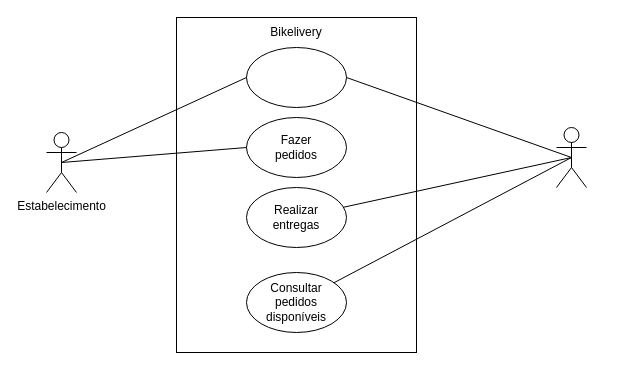
This 618x370 diagram has some shape labels left out. Here are the shapes that lost their labels. From the top down, the box of each, then its label:
(246, 46, 346, 108): Se cadastrar
(556, 126, 586, 188): Entregador
